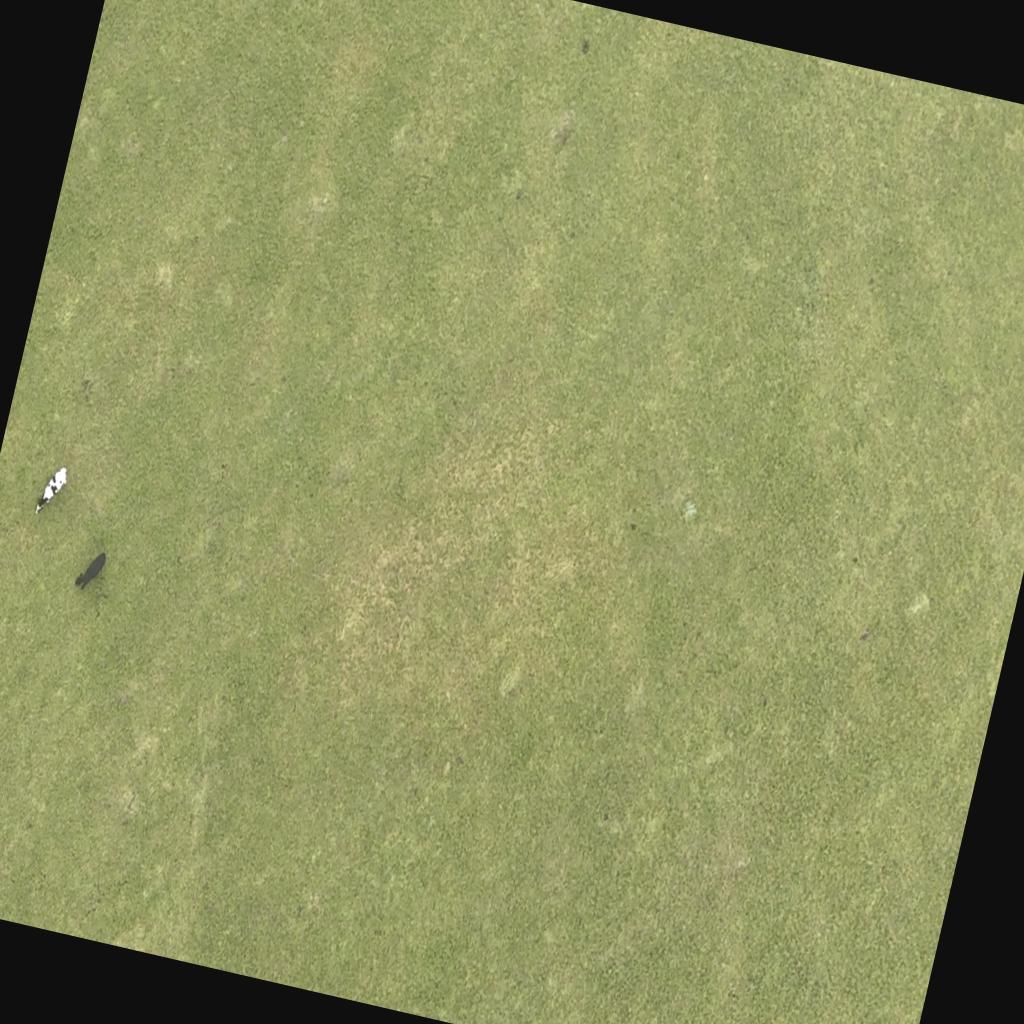cow: (30, 459, 72, 527), (72, 544, 110, 598)
